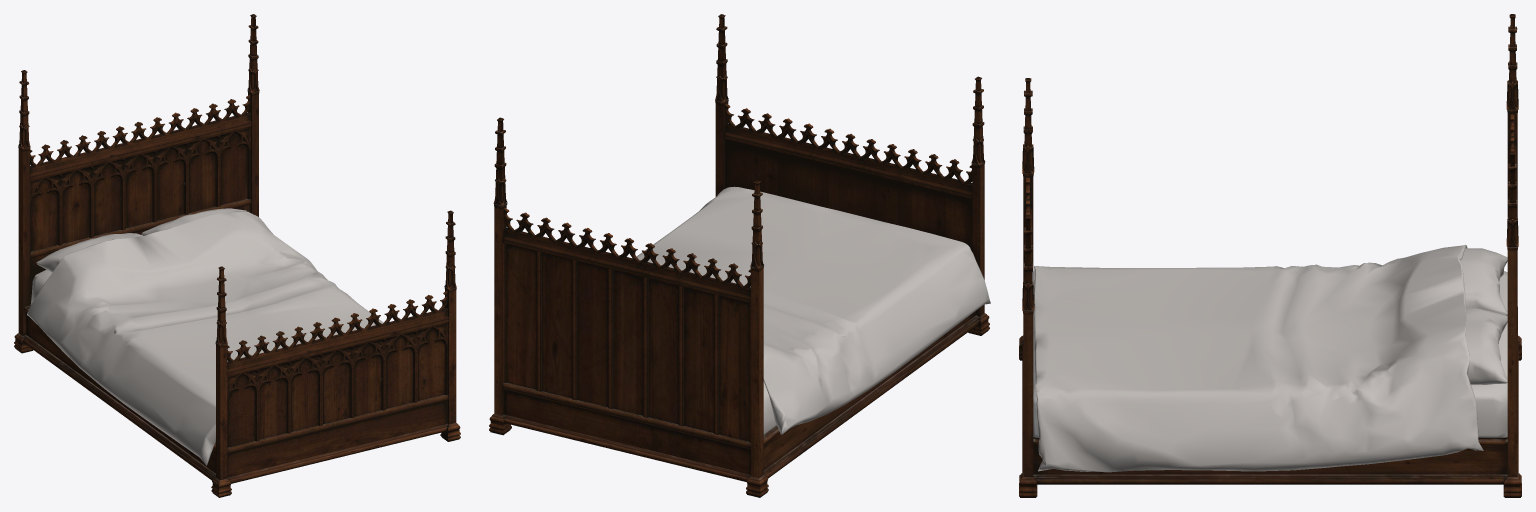
The model's file is gothic_bed_01_4k-v2.glb.
3 renders of one model, left to right at view 1: azimuth 30°, elevation 25°; view 2: azimuth 150°, elevation 25°; view 3: azimuth 270°, elevation 25°, orthographic. The views are drawn at different scales.
Visible parts, largest first — view 1: GothicBed_01; view 2: GothicBed_01; view 3: GothicBed_01.
Part boxes in pixels (x1,y1,x2,y2): GothicBed_01: [14, 14, 460, 497]; GothicBed_01: [489, 14, 990, 497]; GothicBed_01: [1019, 14, 1521, 497].
Size of the model in its own units: 1.49 by 1.53 by 2.04.
Materials: 1 (1 with a texture image).
